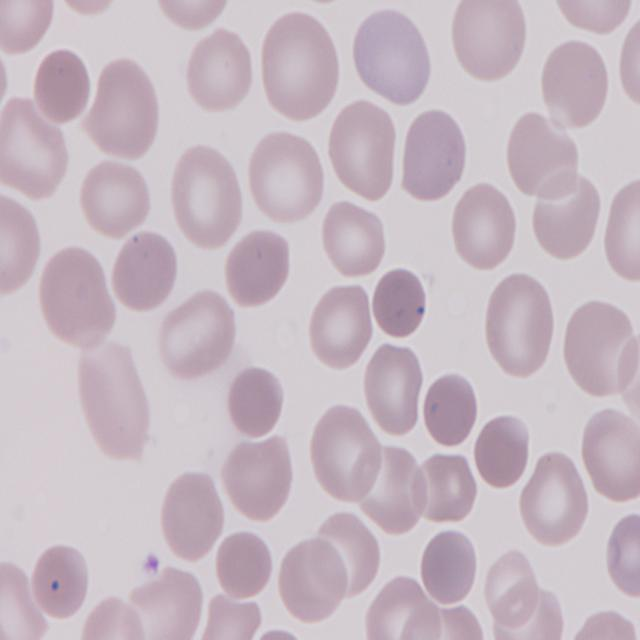RBC: (257, 7, 344, 124), (74, 343, 151, 462), (349, 3, 434, 110), (483, 273, 562, 387), (168, 142, 248, 250), (40, 246, 118, 351), (306, 404, 386, 506), (244, 128, 324, 228), (156, 289, 242, 382), (88, 59, 166, 160), (561, 298, 637, 399), (0, 96, 72, 202), (328, 96, 400, 201), (220, 432, 298, 528), (516, 453, 591, 548), (276, 530, 350, 626), (448, 0, 530, 85), (538, 34, 612, 128), (398, 105, 468, 202), (160, 468, 228, 566), (183, 24, 257, 112), (449, 182, 518, 276), (361, 340, 426, 438), (79, 158, 152, 244), (306, 283, 374, 375), (109, 228, 179, 316), (580, 406, 640, 508), (225, 224, 292, 310), (528, 184, 600, 264), (323, 200, 389, 279), (32, 544, 94, 623), (418, 450, 482, 526), (472, 414, 532, 494), (0, 194, 44, 302), (213, 526, 274, 600), (604, 172, 640, 288), (607, 504, 640, 604), (0, 0, 54, 61), (78, 594, 147, 640), (553, 0, 638, 36), (149, 1, 238, 32), (614, 17, 640, 116), (570, 609, 634, 640)
Spherocyte: (419, 526, 482, 609), (422, 368, 482, 451), (32, 50, 92, 126), (228, 364, 286, 440), (372, 270, 429, 340)
